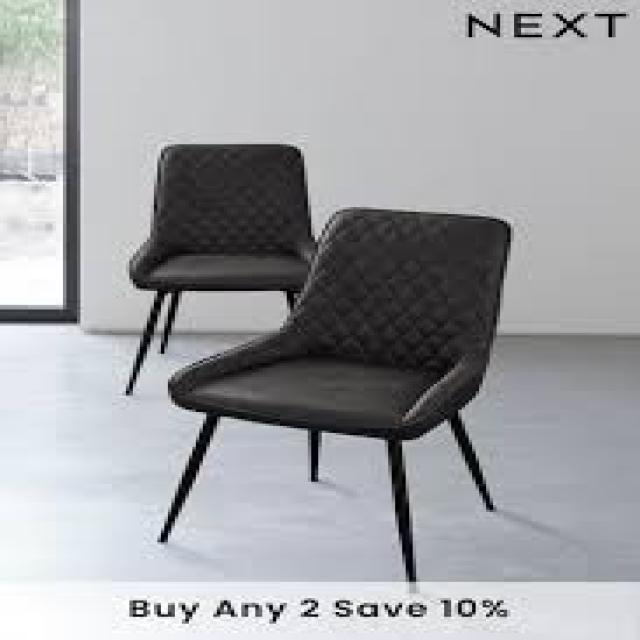chair: (132, 176, 568, 590), (75, 108, 370, 419)
